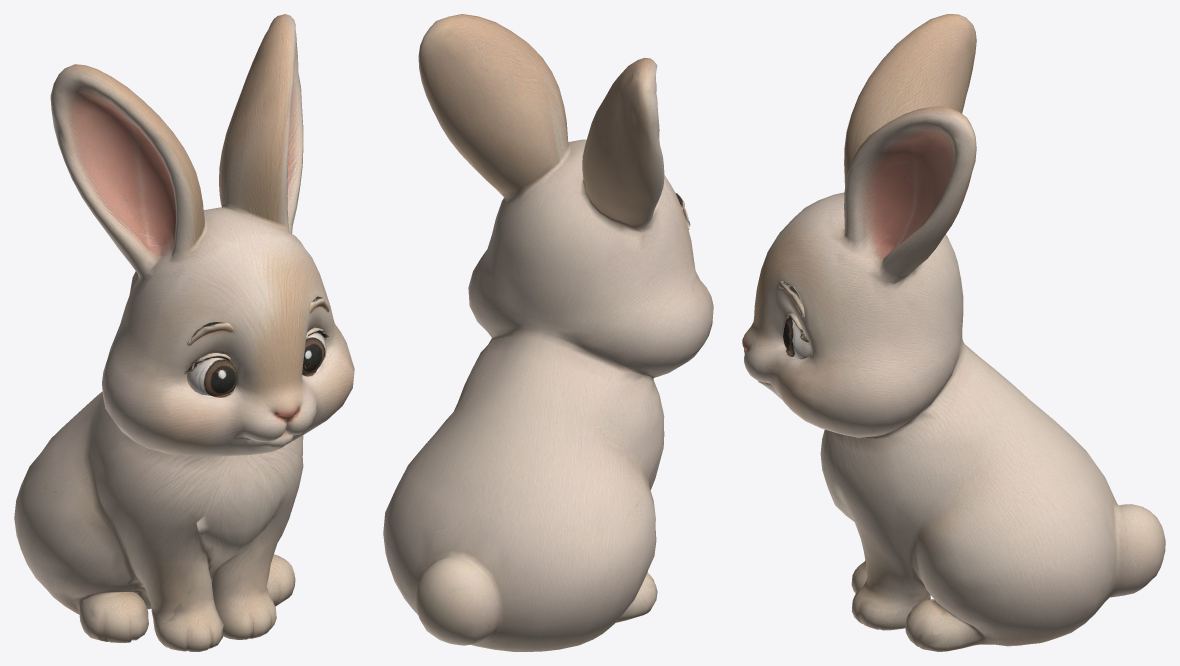
Rendered from biscuit.glb.
3 views of the same model, side by side, from view 1: azimuth 30°, elevation 25°; view 2: azimuth 150°, elevation 25°; view 3: azimuth 270°, elevation 25° (orthographic). The views are drawn at different scales.
Size of the model in its own units: 0.4341 by 0.9512 by 0.6685.
1 material, 1 textured.
